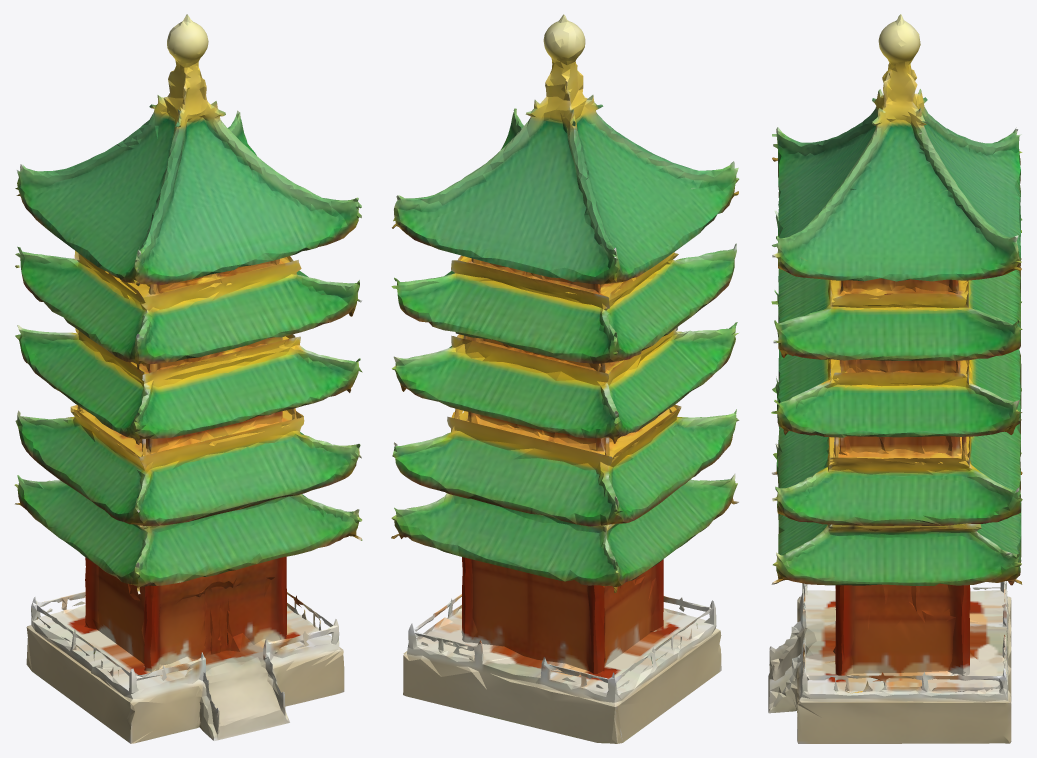
The model's file is china_pagoda.glb.
3 views of the same model, side by side, from view 1: azimuth 30°, elevation 25°; view 2: azimuth 150°, elevation 25°; view 3: azimuth 270°, elevation 25° (orthographic).
Parts seen in each view (by area): view 1: china_pagoda; view 2: china_pagoda; view 3: china_pagoda.
Boxes of the visible parts, x1,y1,x2,y2 form: china_pagoda: (14,14,362,743); china_pagoda: (391,14,739,743); china_pagoda: (768,14,1022,743).
Size of the model in its own units: 0.6641 by 1.88 by 0.6383.
Materials: 1 (1 with a texture image).
